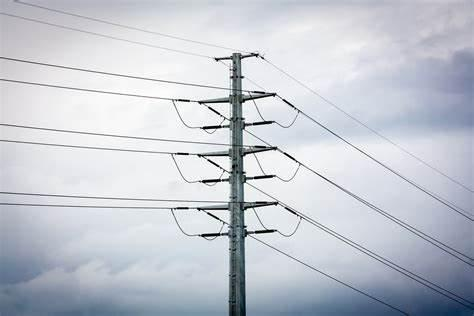power_tower: (174, 48, 288, 316)
